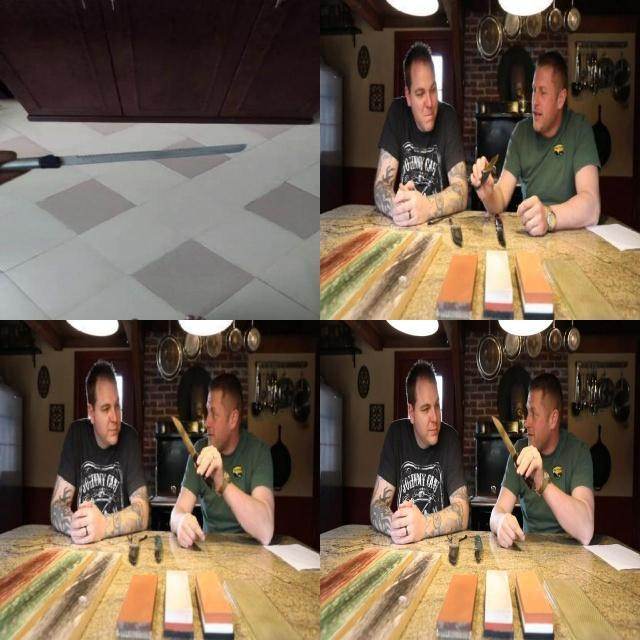-: (32, 137, 248, 172), (169, 405, 213, 475), (489, 405, 533, 474), (474, 149, 502, 189)
